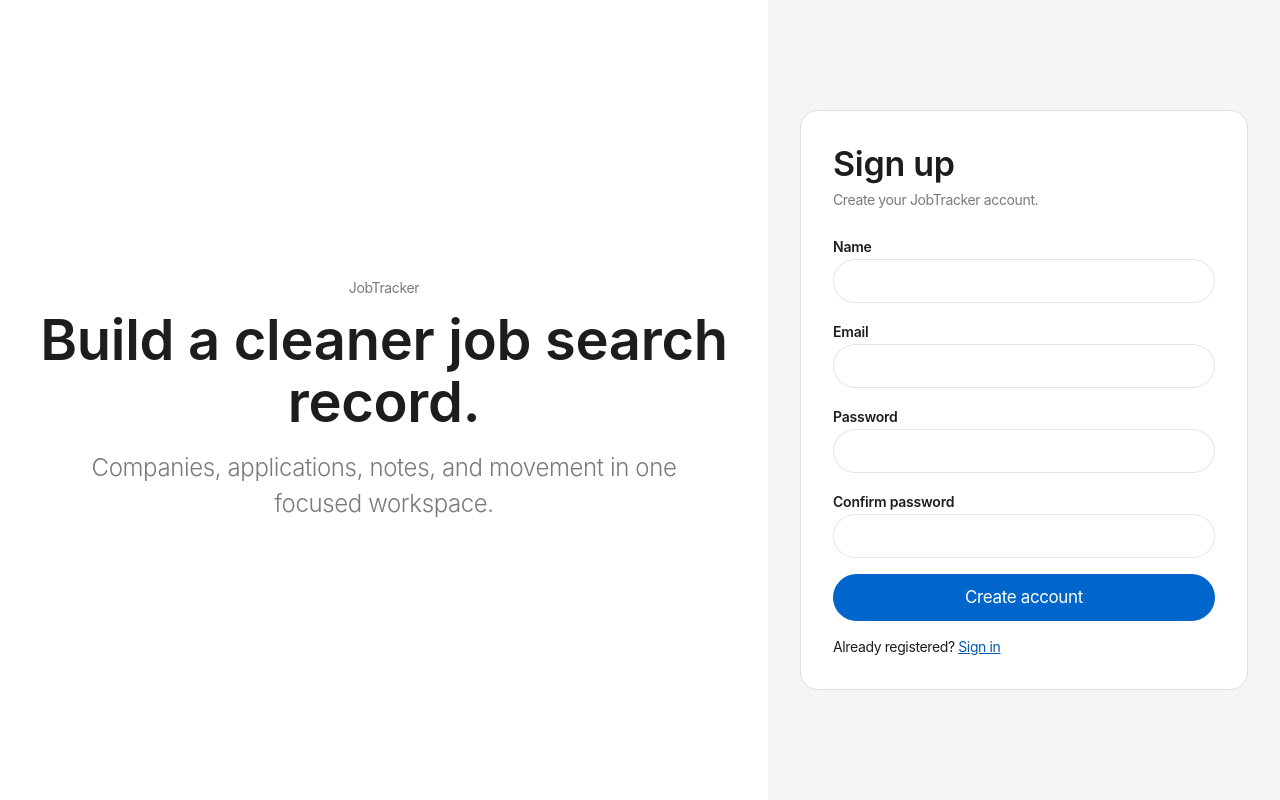
Test: signup form › shows mismatch password validation error
Type "Dev User" into the field labelled "Name".
click(1024, 281); type("Dev User")  # box [833,259,1215,303]
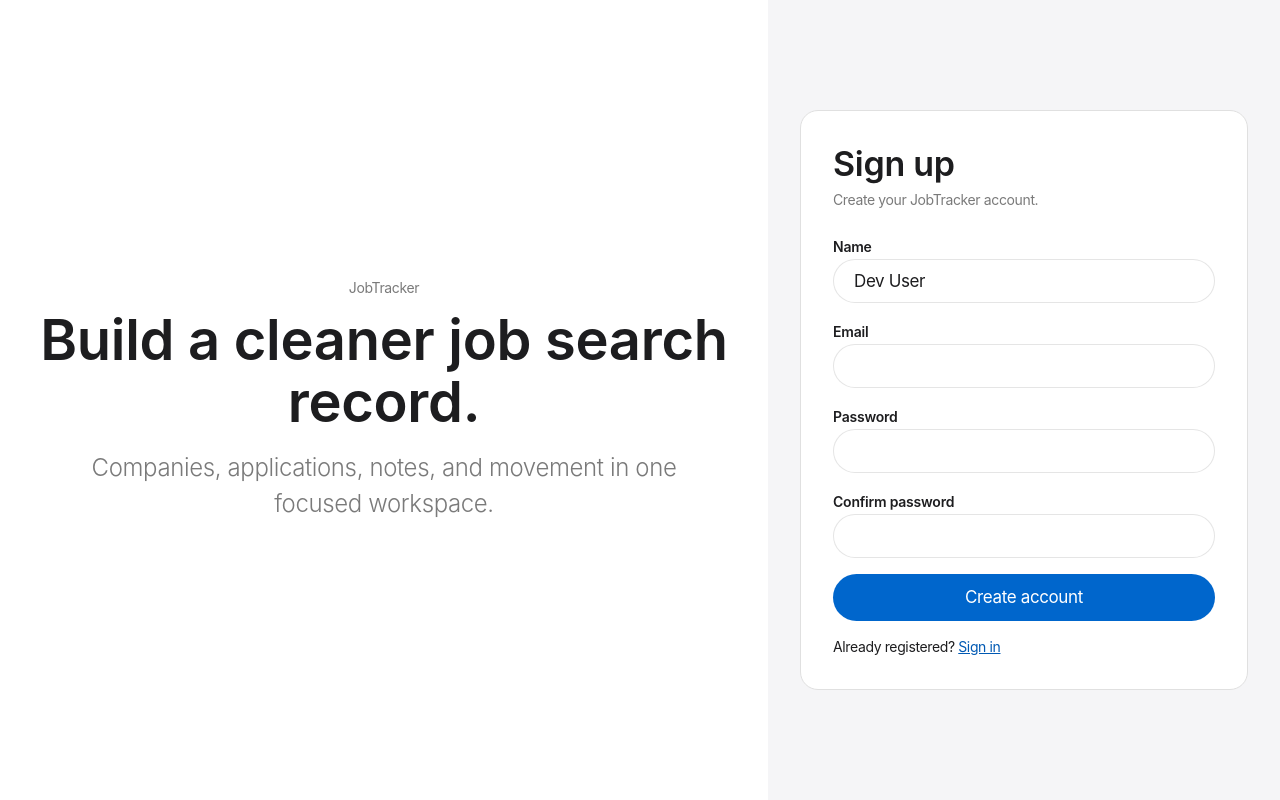
Type "dev@example.com" into the field labelled "Email".
click(1024, 366); type("dev@example.com")  # box [833,344,1215,388]
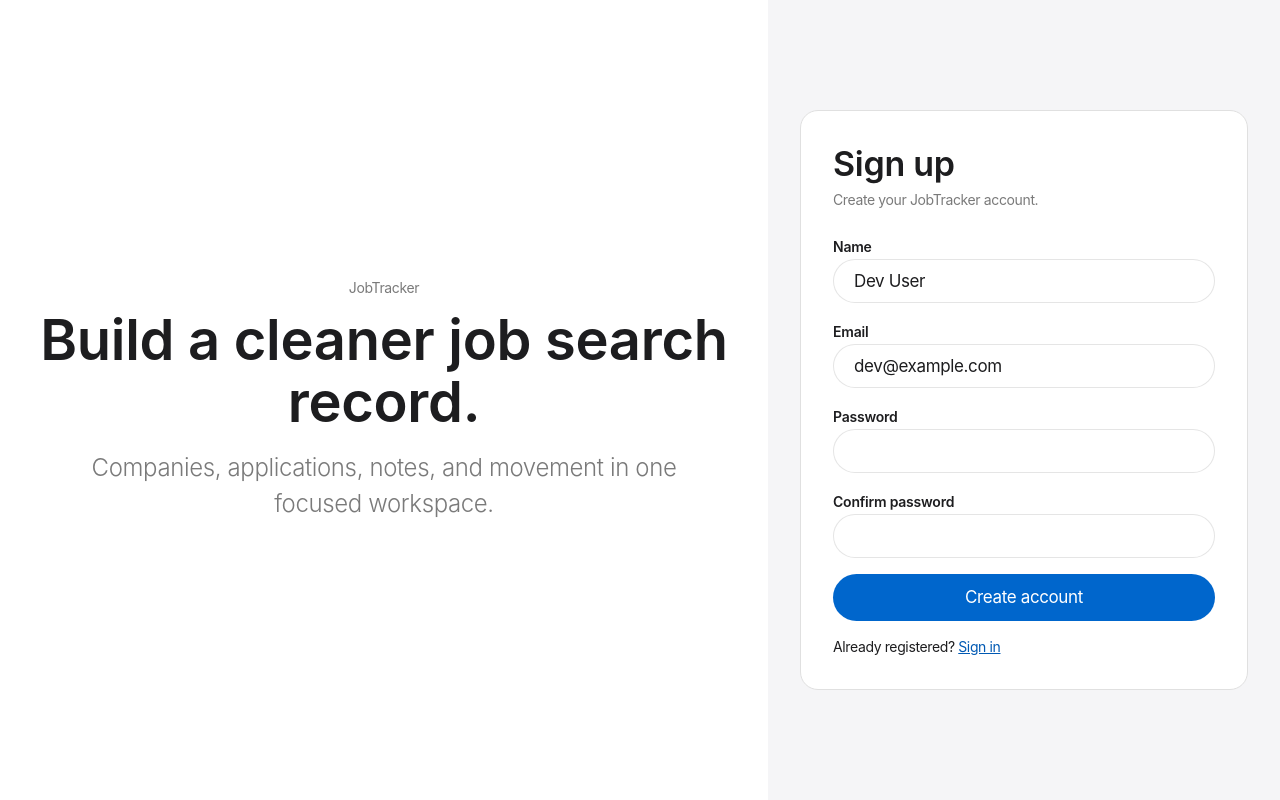
Type "secret123" into the password field labelled "Password".
click(1024, 451); type("secret123")  # box [833,429,1215,473]
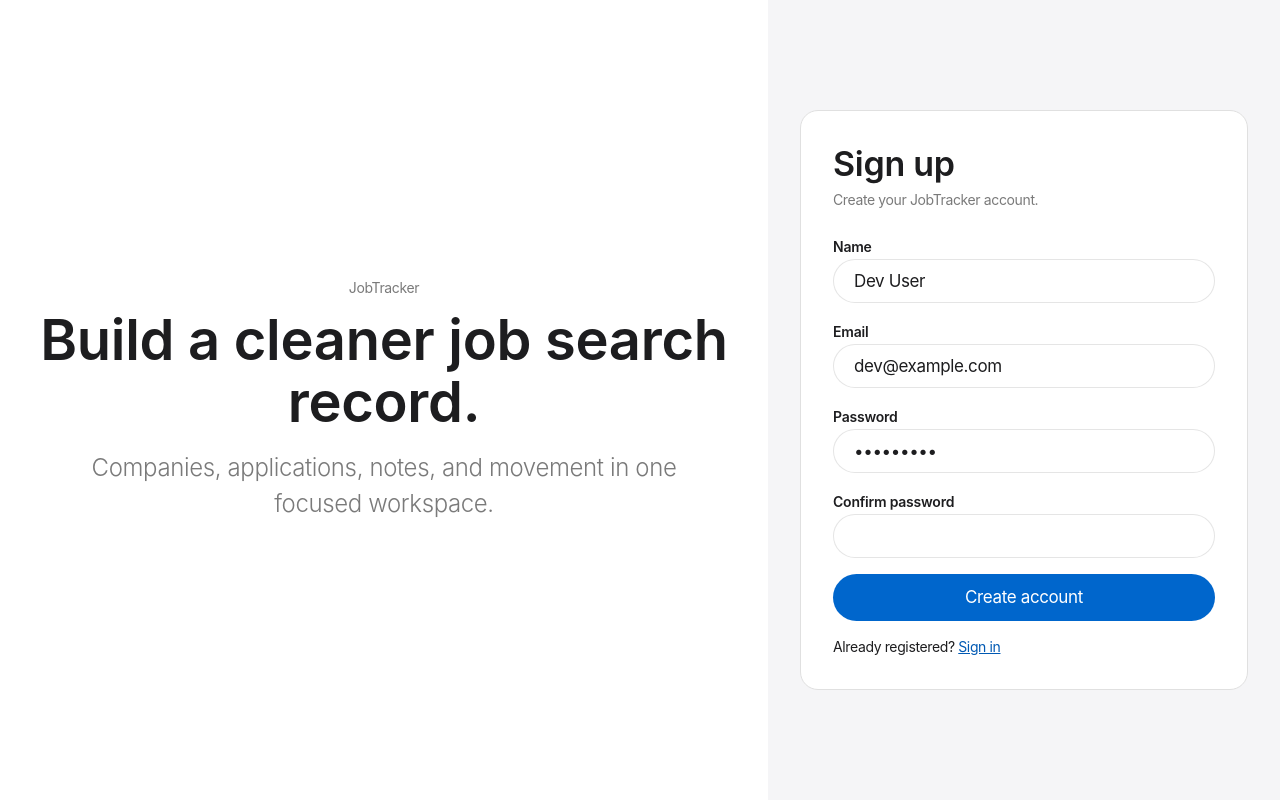
Type "secret124" into the password field labelled "Confirm password".
click(1024, 536); type("secret124")  # box [833,514,1215,558]
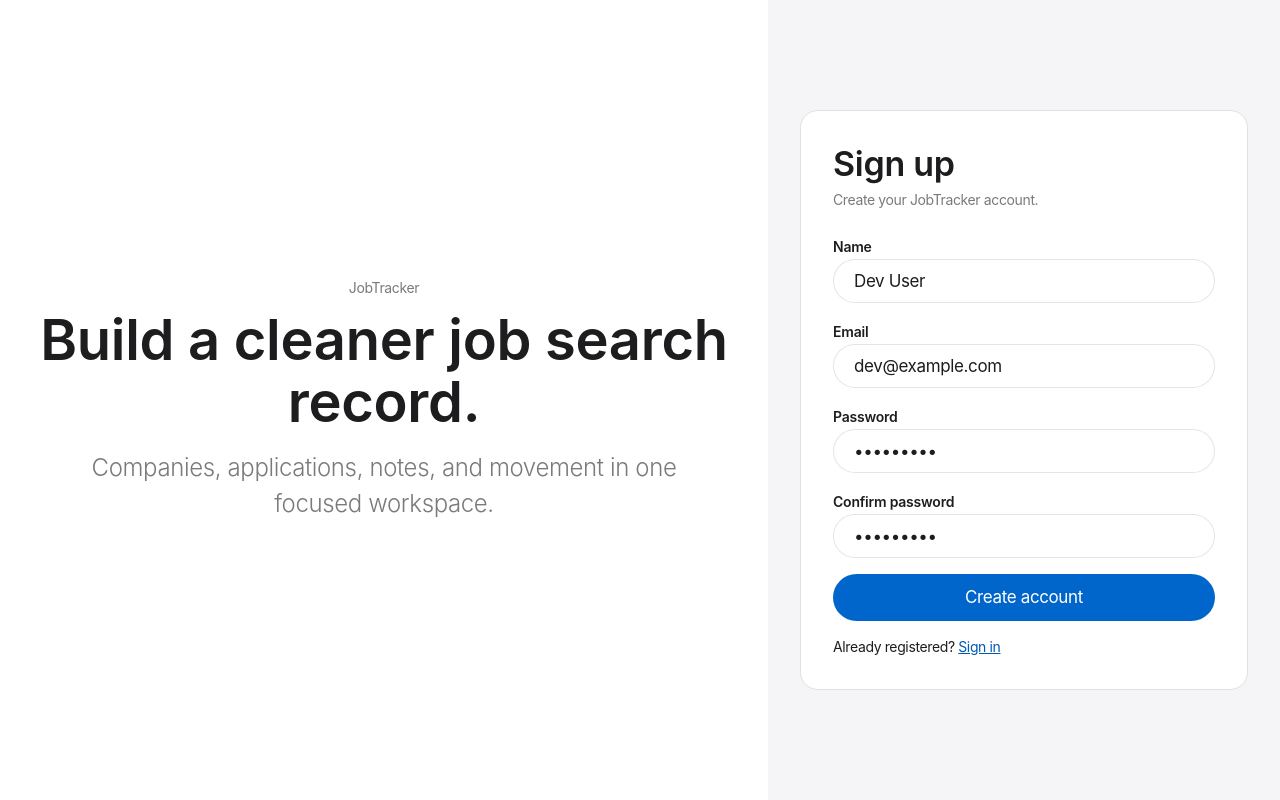
Click the button "Create account".
click(1024, 597)  # box [833,574,1215,621]
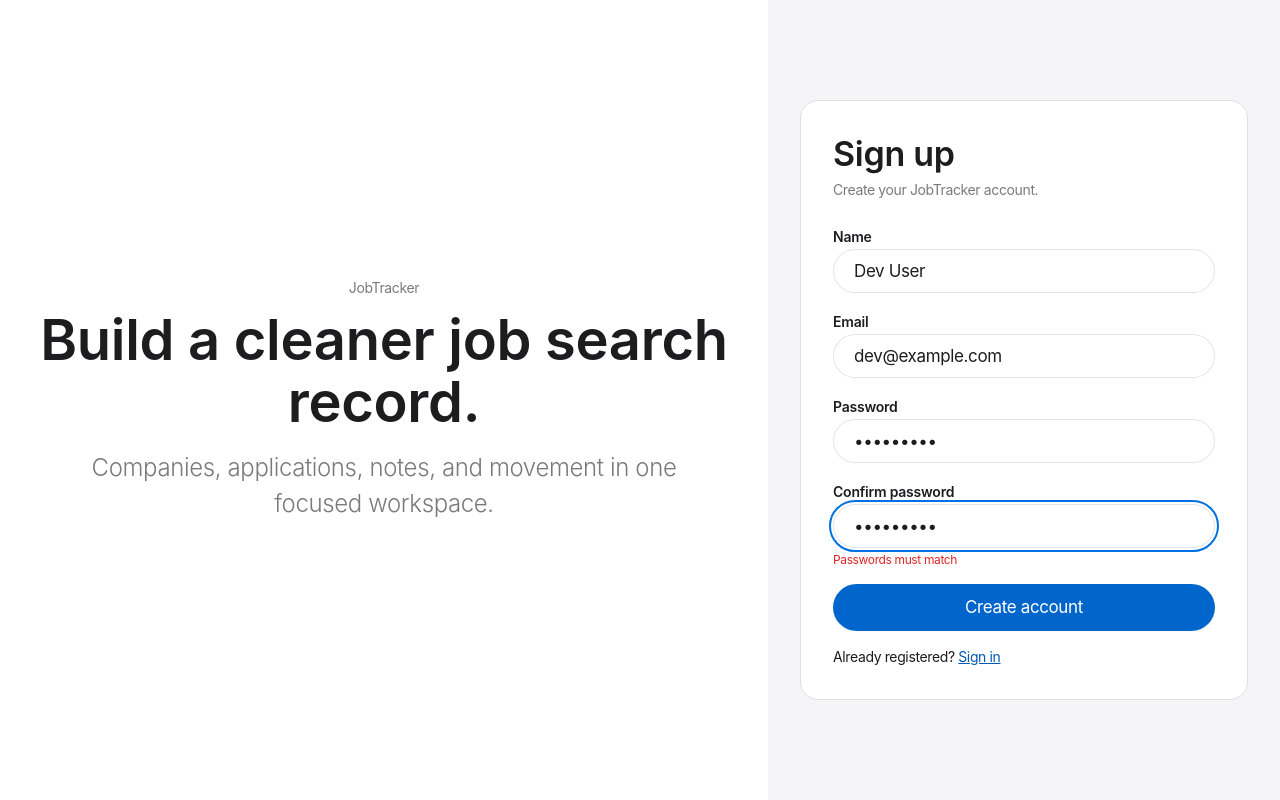
Expected: the text "Passwords must match" is shown, [833,552,957,567]
